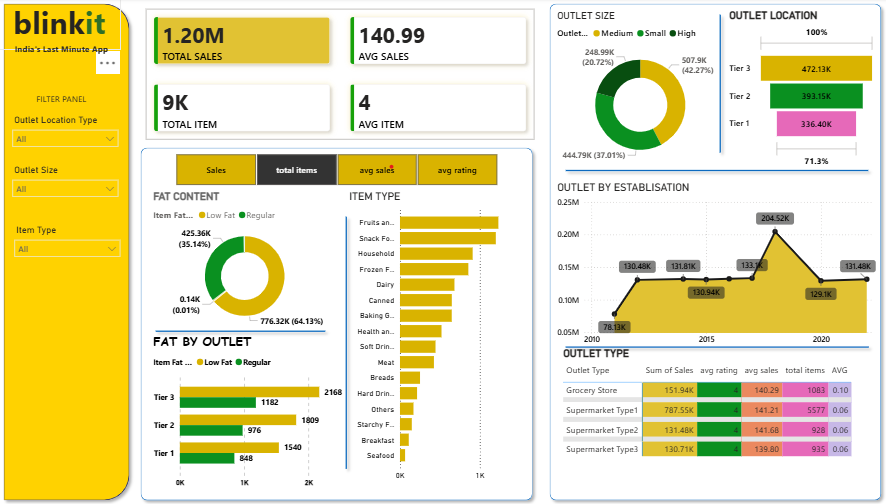

The page's visual inventory and layout, read from the dashboard file:
{"tool":"powerbi","page":{"name":"Page 1","canvas":[1400,800],"ordinal":0},"visuals":[{"type":"shape","box":[0,0,215.7,800],"z":0},{"type":"textbox","box":[263,524.4,176.4,225.2],"z":1000},{"type":"textbox","box":[0,0,193.3,81.7],"z":2000},{"type":"textbox","box":[263,0,176.4,226.8],"z":3000},{"type":"textbox","box":[0,66.7,200,30],"z":4000},{"type":"cardVisual","fields":{"Data":["Sum(BlinkIT Grocery Data.Sales)","BlinkIT Grocery Data.avg sales","BlinkIT Grocery Data.total items","BlinkIT Grocery Data.avg rating"]},"box":[215,0,646.7,240],"z":5000},{"type":"shape","box":[215,226.7,635,573.3],"z":6000},{"type":"slicer","fields":{"Values":["Parameter 2.Parameter"]},"box":[255,240,555,61.7],"z":7000},{"type":"donutChart","title":"FAT CONTENT","fields":{"Y":["Sum(BlinkIT Grocery Data.Sales)","BlinkIT Grocery Data.avg sales","BlinkIT Grocery Data.total items","BlinkIT Grocery Data.avg rating"],"Category":["BlinkIT Grocery Data.Item Fat Content"]},"box":[240,301.7,298.3,223.3],"z":8000},{"type":"clusteredBarChart","title":"FAT BY OUTLET","fields":{"Y":["BlinkIT Grocery Data.total items"],"Category":["BlinkIT Grocery Data.Outlet Location Type"],"Series":["BlinkIT Grocery Data.Item Fat Content"]},"box":[240,528.3,320,250],"z":9000},{"type":"barChart","title":"ITEM TYPE","fields":{"Y":["BlinkIT Grocery Data.total items"],"Category":["BlinkIT Grocery Data.Item Type"]},"box":[548.3,301.7,286.7,463.3],"z":10000},{"type":"shape","box":[240,503.3,285,41.7],"z":11000},{"type":"shape","box":[455,335,186.7,415],"z":12000},{"type":"shape","box":[860,0,540,800],"z":13000},{"type":"donutChart","title":"OUTLET SIZE","fields":{"Category":["BlinkIT Grocery Data.Outlet Size"],"Y":["Sum(BlinkIT Grocery Data.Sales)"]},"box":[875,16.7,271.7,255],"z":14000},{"type":"funnel","title":"OUTLET LOCATION","fields":{"Category":["BlinkIT Grocery Data.Outlet Location Type"],"Y":["Sum(BlinkIT Grocery Data.Sales)"]},"box":[1146.7,16.7,240,255],"z":15000},{"type":"lineChart","title":"OUTLET BY ESTABLISATION","fields":{"Category":["BlinkIT Grocery Data.Outlet Establishment Year"],"Y":["Sum(BlinkIT Grocery Data.Sales)"]},"box":[875,288.3,511.7,268.3],"z":16000},{"type":"pivotTable","title":"OUTLET TYPE","fields":{"Rows":["BlinkIT Grocery Data.Outlet Type"],"Values":["Sum(BlinkIT Grocery Data.Sales)","BlinkIT Grocery Data.avg rating","BlinkIT Grocery Data.avg sales","BlinkIT Grocery Data.total items","Avg(BlinkIT Grocery Data.Item Visibility)"]},"box":[885,549.6,494.5,215.7],"z":17000},{"type":"shape","box":[986.7,16.7,300,235],"z":18000},{"type":"shape","box":[885,182.7,494.5,178],"z":19000},{"type":"shape","box":[885,461.7,495,176.7],"z":20000},{"type":"slicer","fields":{"Values":["BlinkIT Grocery Data.Outlet Location Type"]},"box":[13.3,180,186.7,60],"z":21000},{"type":"slicer","fields":{"Values":["BlinkIT Grocery Data.Outlet Size"]},"box":[13.3,258.3,186.7,60],"z":22000},{"type":"slicer","fields":{"Values":["BlinkIT Grocery Data.Item Type"]},"box":[15,353.3,186.7,60],"z":23000},{"type":"textbox","box":[0,144.9,200,29.9],"z":24000}]}

Visuals, with their boxes in screenshot pixels (x1, y1, x2, y2), scaled from the page's 1400x800 canvas onto the 886x504 screenshot:
shape: x1=0 y1=0 x2=137 y2=503
textbox: x1=166 y1=330 x2=278 y2=472
textbox: x1=0 y1=0 x2=122 y2=51
textbox: x1=166 y1=0 x2=278 y2=143
textbox: x1=0 y1=42 x2=127 y2=61
cardVisual - Sum(BlinkIT Grocery Data.Sales) x BlinkIT Grocery Data.avg sales: x1=136 y1=0 x2=545 y2=151
shape: x1=136 y1=143 x2=538 y2=503
slicer - Parameter 2.Parameter: x1=161 y1=151 x2=513 y2=190
"FAT CONTENT" donutChart: x1=152 y1=190 x2=341 y2=331
"FAT BY OUTLET" clusteredBarChart: x1=152 y1=333 x2=354 y2=490
"ITEM TYPE" barChart: x1=347 y1=190 x2=528 y2=482
shape: x1=152 y1=317 x2=332 y2=343
shape: x1=288 y1=211 x2=406 y2=472
shape: x1=544 y1=0 x2=885 y2=503
"OUTLET SIZE" donutChart: x1=554 y1=11 x2=726 y2=171
"OUTLET LOCATION" funnel: x1=726 y1=11 x2=878 y2=171
"OUTLET BY ESTABLISATION" lineChart: x1=554 y1=182 x2=878 y2=351
"OUTLET TYPE" pivotTable: x1=560 y1=346 x2=873 y2=482
shape: x1=624 y1=11 x2=814 y2=159
shape: x1=560 y1=115 x2=873 y2=227
shape: x1=560 y1=291 x2=873 y2=402
slicer - BlinkIT Grocery Data.Outlet Location Type: x1=8 y1=113 x2=127 y2=151
slicer - BlinkIT Grocery Data.Outlet Size: x1=8 y1=163 x2=127 y2=201
slicer - BlinkIT Grocery Data.Item Type: x1=9 y1=223 x2=128 y2=260
textbox: x1=0 y1=91 x2=127 y2=110
